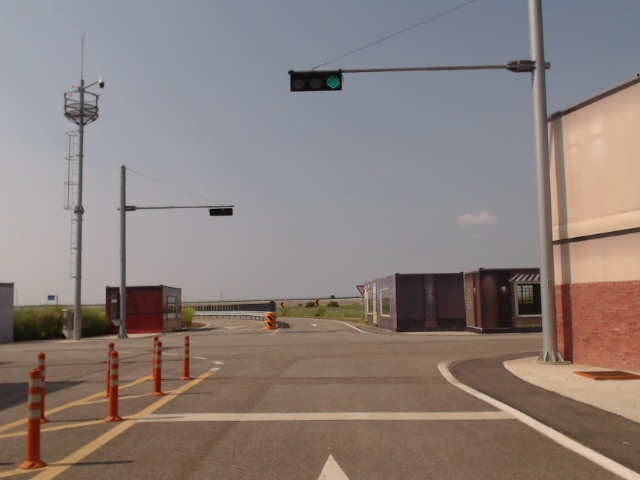green_3: (290, 71, 343, 92)
